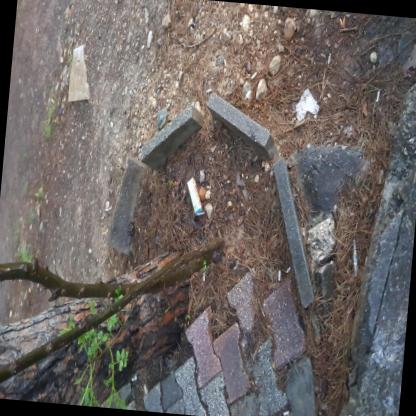Paper: (188, 176, 203, 215), (251, 71, 257, 79), (339, 17, 342, 28), (278, 269, 281, 280), (224, 57, 227, 67), (283, 410, 289, 415), (206, 88, 211, 92)
Plastic: (296, 87, 320, 121), (198, 211, 204, 215)
Waste: (69, 43, 90, 101), (354, 239, 358, 275), (377, 90, 380, 102)
